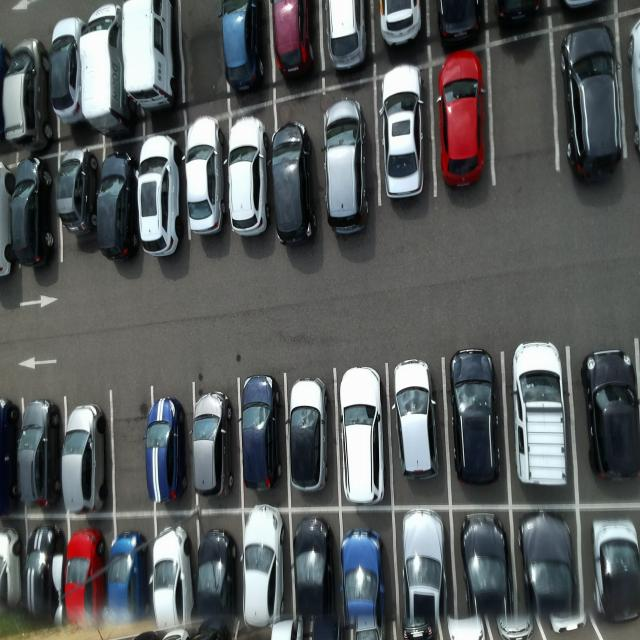car: (560, 25, 629, 183), (511, 341, 572, 488), (579, 348, 640, 485), (439, 50, 489, 195), (138, 134, 190, 269), (340, 366, 389, 509), (452, 347, 503, 484), (325, 97, 373, 241), (380, 63, 428, 199), (270, 119, 318, 251), (393, 358, 442, 484), (226, 116, 273, 244), (4, 35, 57, 148), (79, 1, 123, 137), (242, 502, 287, 627), (184, 116, 229, 237), (287, 374, 332, 495), (16, 399, 63, 512), (12, 158, 59, 270), (61, 405, 108, 516), (243, 376, 285, 493), (49, 17, 89, 139), (192, 390, 238, 496), (62, 524, 106, 626), (23, 524, 66, 628), (148, 398, 190, 503), (155, 525, 197, 629), (97, 151, 134, 265), (108, 527, 150, 623), (57, 145, 101, 235)
free_space: (485, 27, 566, 185), (107, 387, 159, 521), (174, 1, 233, 119)
